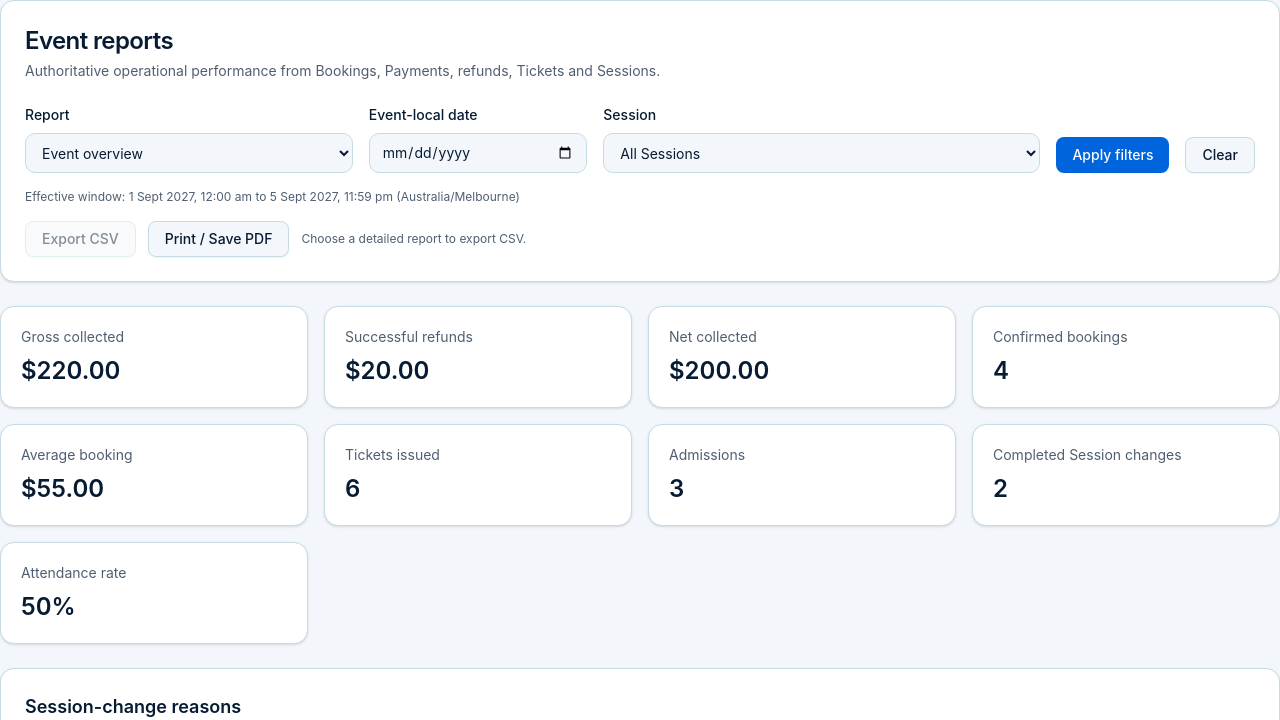
Test: EventReportsWorkspace › groups sales and operations by Event-local Session date
The width and height of the screenshot is (1280, 720).
expect the text "$200.00" is shown: met, box [669,356,769,385]
Select "Sales by Event date" in the dropdown labelled "Report" at (189, 153), box [25,133,353,173]
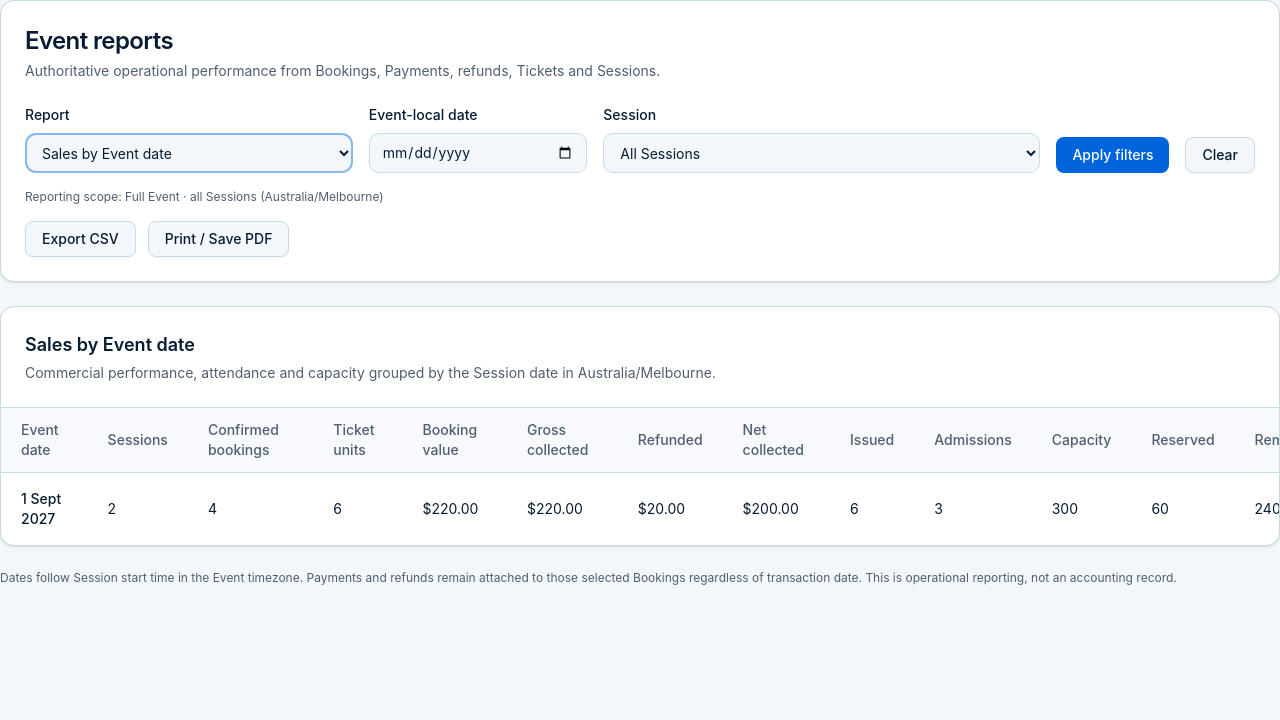
expect the text "1 Sept 2027" is shown: met, box [1,472,88,545]
expect the heading "Sales by Event date" is shown: met, box [25,334,195,355]
expect the text "Payments and refunds remain attached" is shown: met, box [0,570,1177,585]
